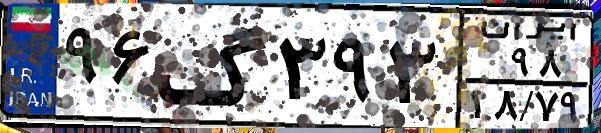1: (470, 70, 495, 125)
3: (270, 28, 330, 110), (385, 28, 445, 110)
6: (110, 28, 156, 98)
7: (535, 70, 560, 125)
8: (537, 27, 568, 80), (495, 70, 520, 125)
9: (330, 28, 385, 110), (57, 26, 110, 100), (560, 70, 590, 125), (508, 27, 537, 80)
گ: (156, 12, 270, 120)
